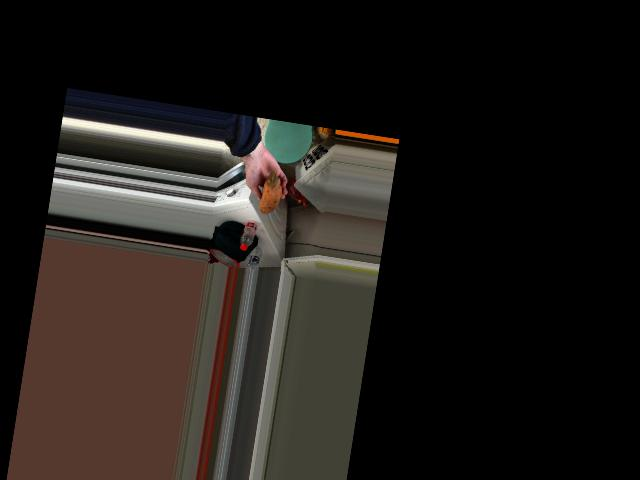sweet_potato: (257, 175, 282, 225)
